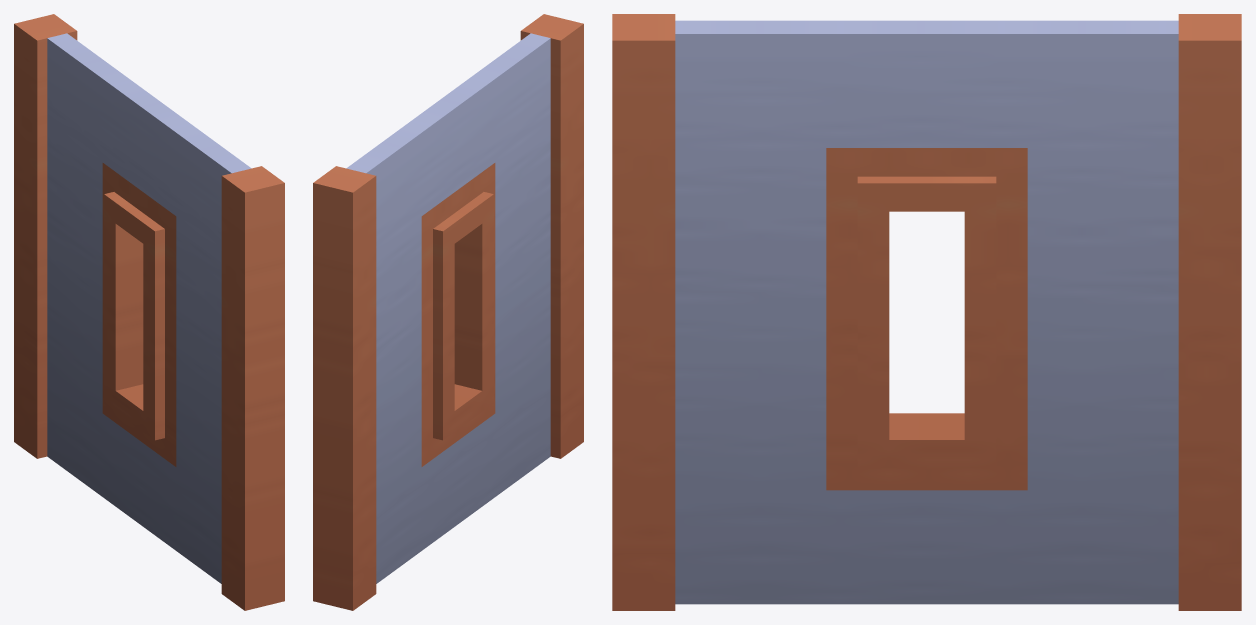
Rendered from wallWindowSmall.fbx.
The picture shows the model from 3 angles, left to right: view 1: azimuth 30°, elevation 25°; view 2: azimuth 150°, elevation 25°; view 3: azimuth 270°, elevation 25°; orthographic projection. The views are drawn at different scales.
Visible parts, largest first — view 1: wallWindowSmall; view 2: wallWindowSmall; view 3: wallWindowSmall.
Boxes of the visible parts, <box> form: wallWindowSmall: <box>14,14,284,610</box>; wallWindowSmall: <box>313,14,583,610</box>; wallWindowSmall: <box>612,14,1241,610</box>.
Size of the model in its own units: 0.1 by 1 by 1.
